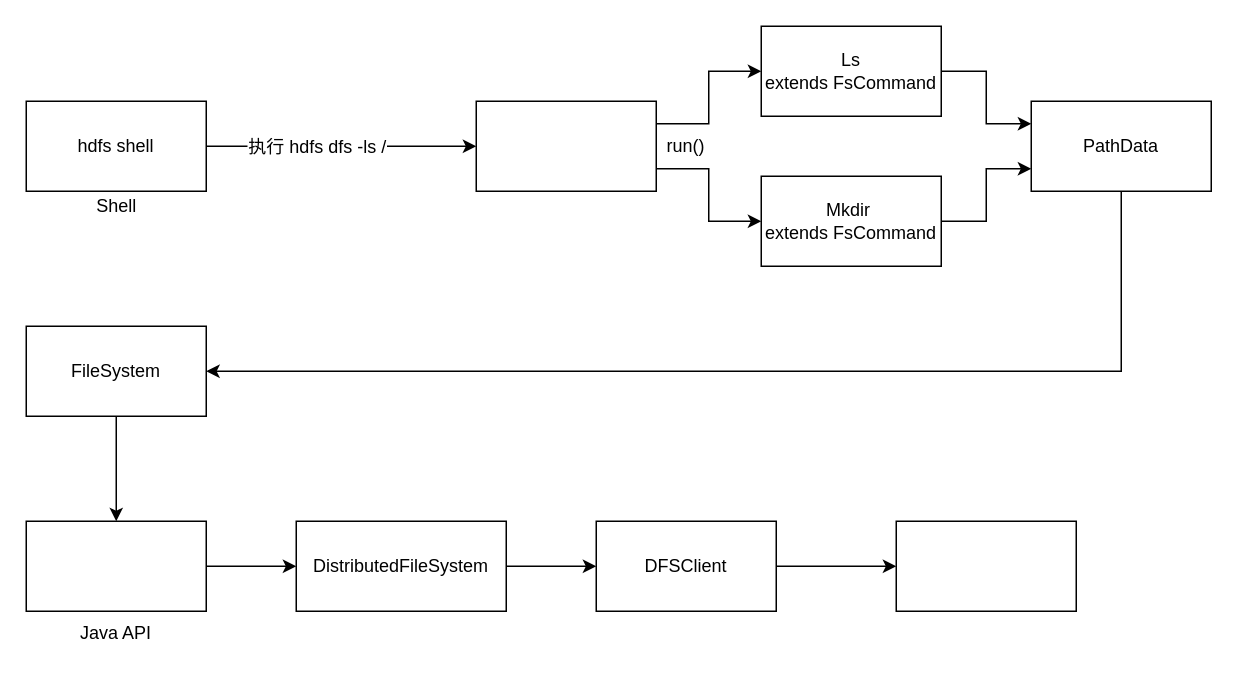
The diagram is 1238 pixels wide and 683 high, and some of its shapes have lost their labels. The centre of each missing label's shape, as x and y in pixels:
"ClientProtocol （NameNode代理）" goes at point (985, 565).
"FileSystem get(Configuration conf)" goes at point (115, 565).
"FsShell" goes at point (565, 145).
